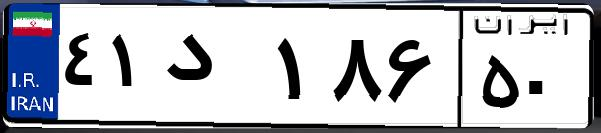0: (525, 38, 570, 115)
1: (270, 28, 330, 110), (110, 28, 158, 98)
4: (57, 26, 110, 100)
5: (475, 38, 525, 113)
6: (385, 28, 445, 110)
8: (330, 28, 385, 110)
د: (158, 20, 270, 120)
